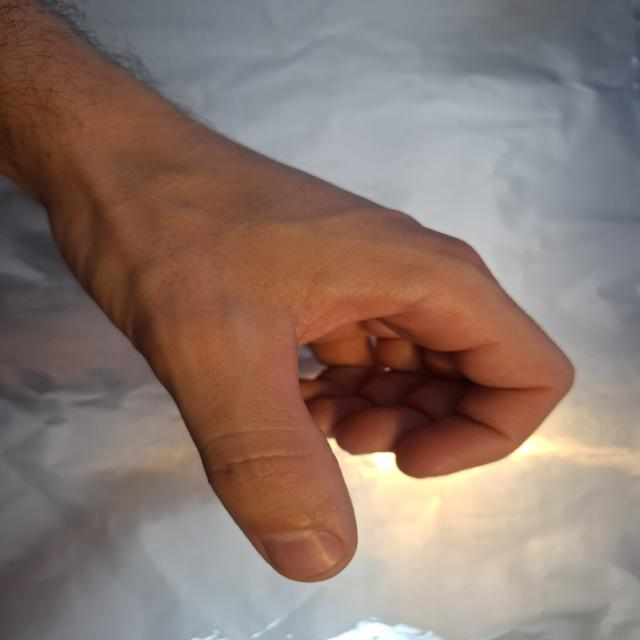glove_off: (28, 128, 577, 584)
